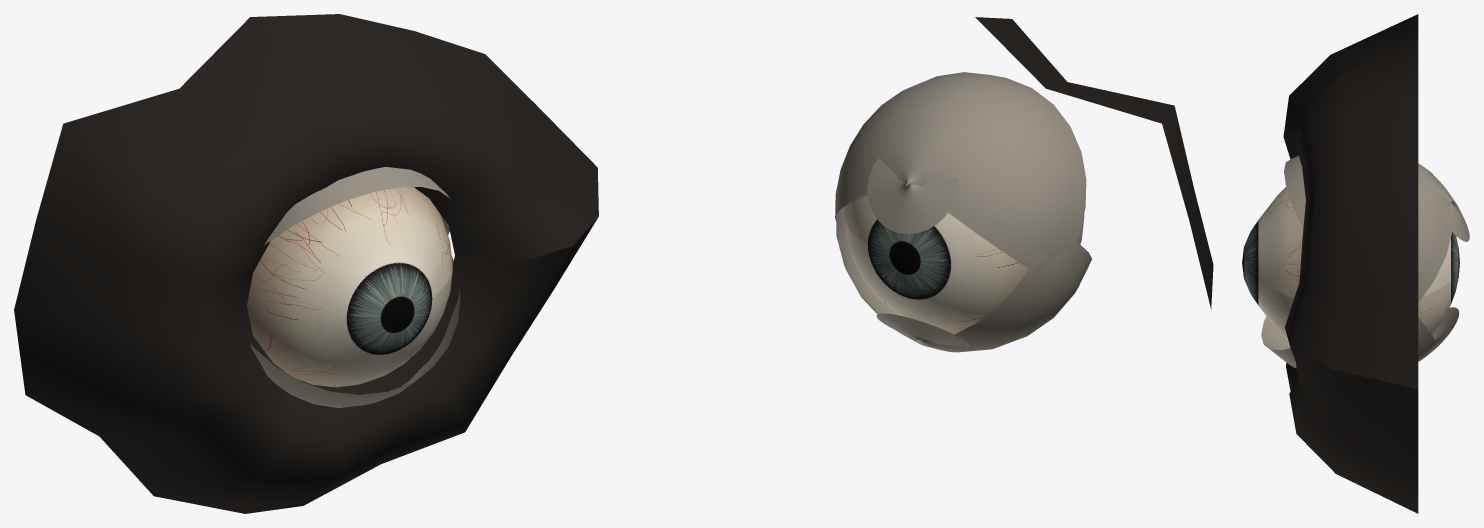
Rendered from eyeball.glb.
3 renders of one model, left to right at view 1: azimuth 30°, elevation 25°; view 2: azimuth 150°, elevation 25°; view 3: azimuth 270°, elevation 25°, orthographic. The views are drawn at different scales.
Parts seen in each view (by area): view 1: knot_mesh, ball_mesh, lid_upper_mesh, lid_lower_mesh; view 2: lid_upper_mesh, ball_mesh, lid_lower_mesh, knot_mesh; view 3: knot_mesh, ball_mesh, lid_upper_mesh, lid_lower_mesh.
Part boxes in pixels (x1,y1,x2,y2): knot_mesh: (14, 14, 598, 513); ball_mesh: (247, 187, 452, 387); lid_upper_mesh: (264, 167, 451, 245); lid_lower_mesh: (249, 256, 460, 407); lid_upper_mesh: (835, 72, 1086, 275); ball_mesh: (844, 195, 1084, 333); lid_lower_mesh: (836, 213, 1091, 352); knot_mesh: (975, 17, 1213, 309); knot_mesh: (1283, 14, 1418, 513); ball_mesh: (1242, 187, 1459, 340); lid_upper_mesh: (1284, 155, 1469, 302); lid_lower_mesh: (1261, 307, 1459, 368).
Size of the model in its own units: 0.0673 by 0.0546 by 0.0264.
Materials: 3 (1 with a texture image).
